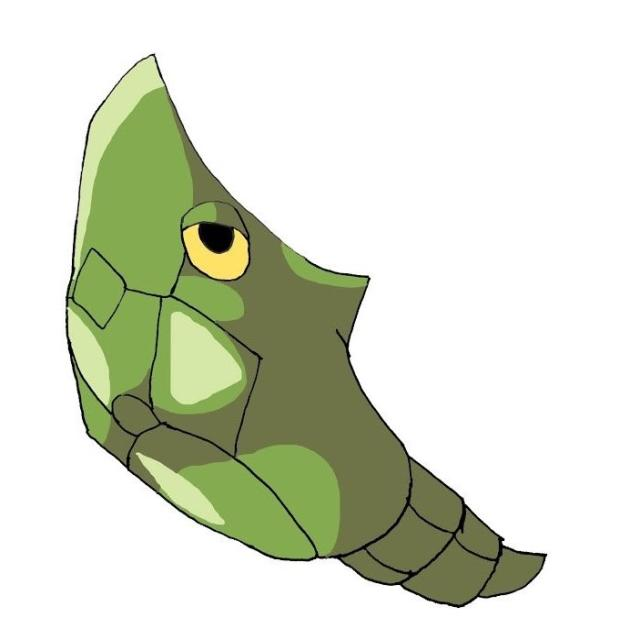Metapod: (56, 38, 466, 574)
